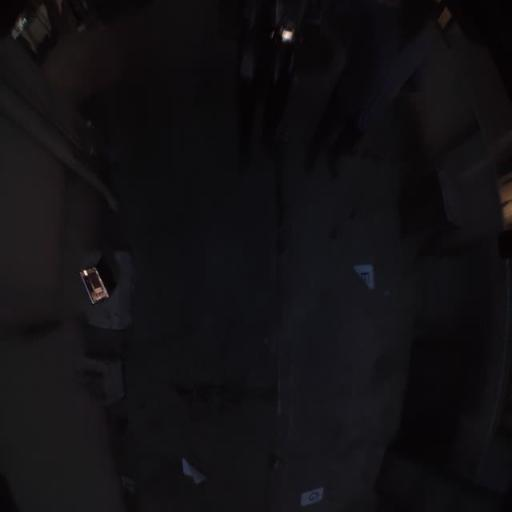E: (352, 265, 375, 290)
G: (301, 486, 324, 507)
